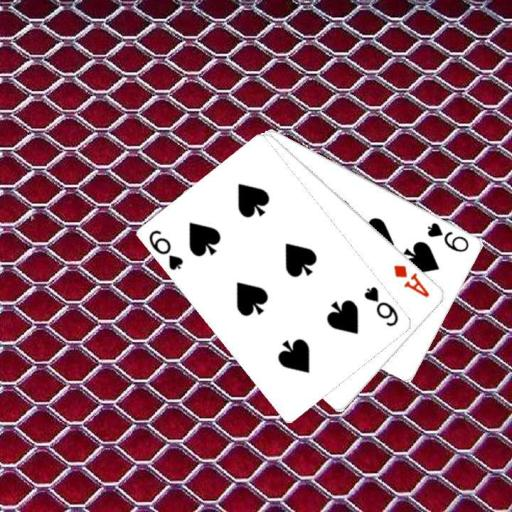6S: (146, 226, 186, 272), (362, 283, 401, 329)
9S: (424, 219, 471, 254)
AD: (391, 262, 432, 299)
